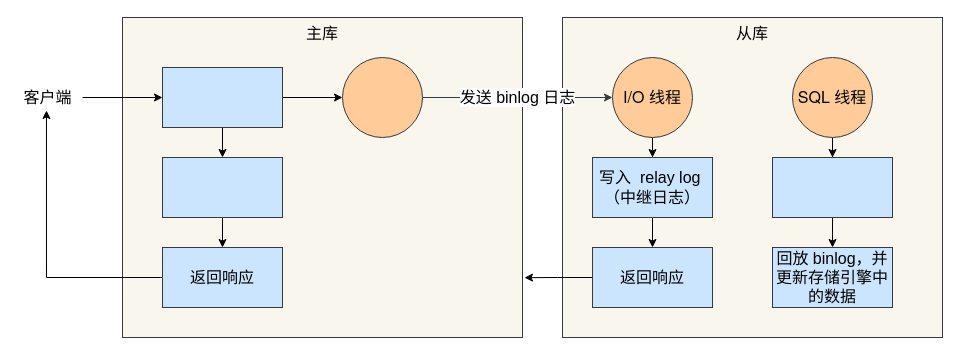
Image size: 960x355. Some labels were removed from this diagram. Here are the shapes that lost their labels. From the top down, the centre of each, then its label:
At point 222,97: "写入 binlog".
At point 382,97: "log dump 线程".
At point 222,187: "提交事务".
At point 832,187: "读取 relay log （中继日志）".
